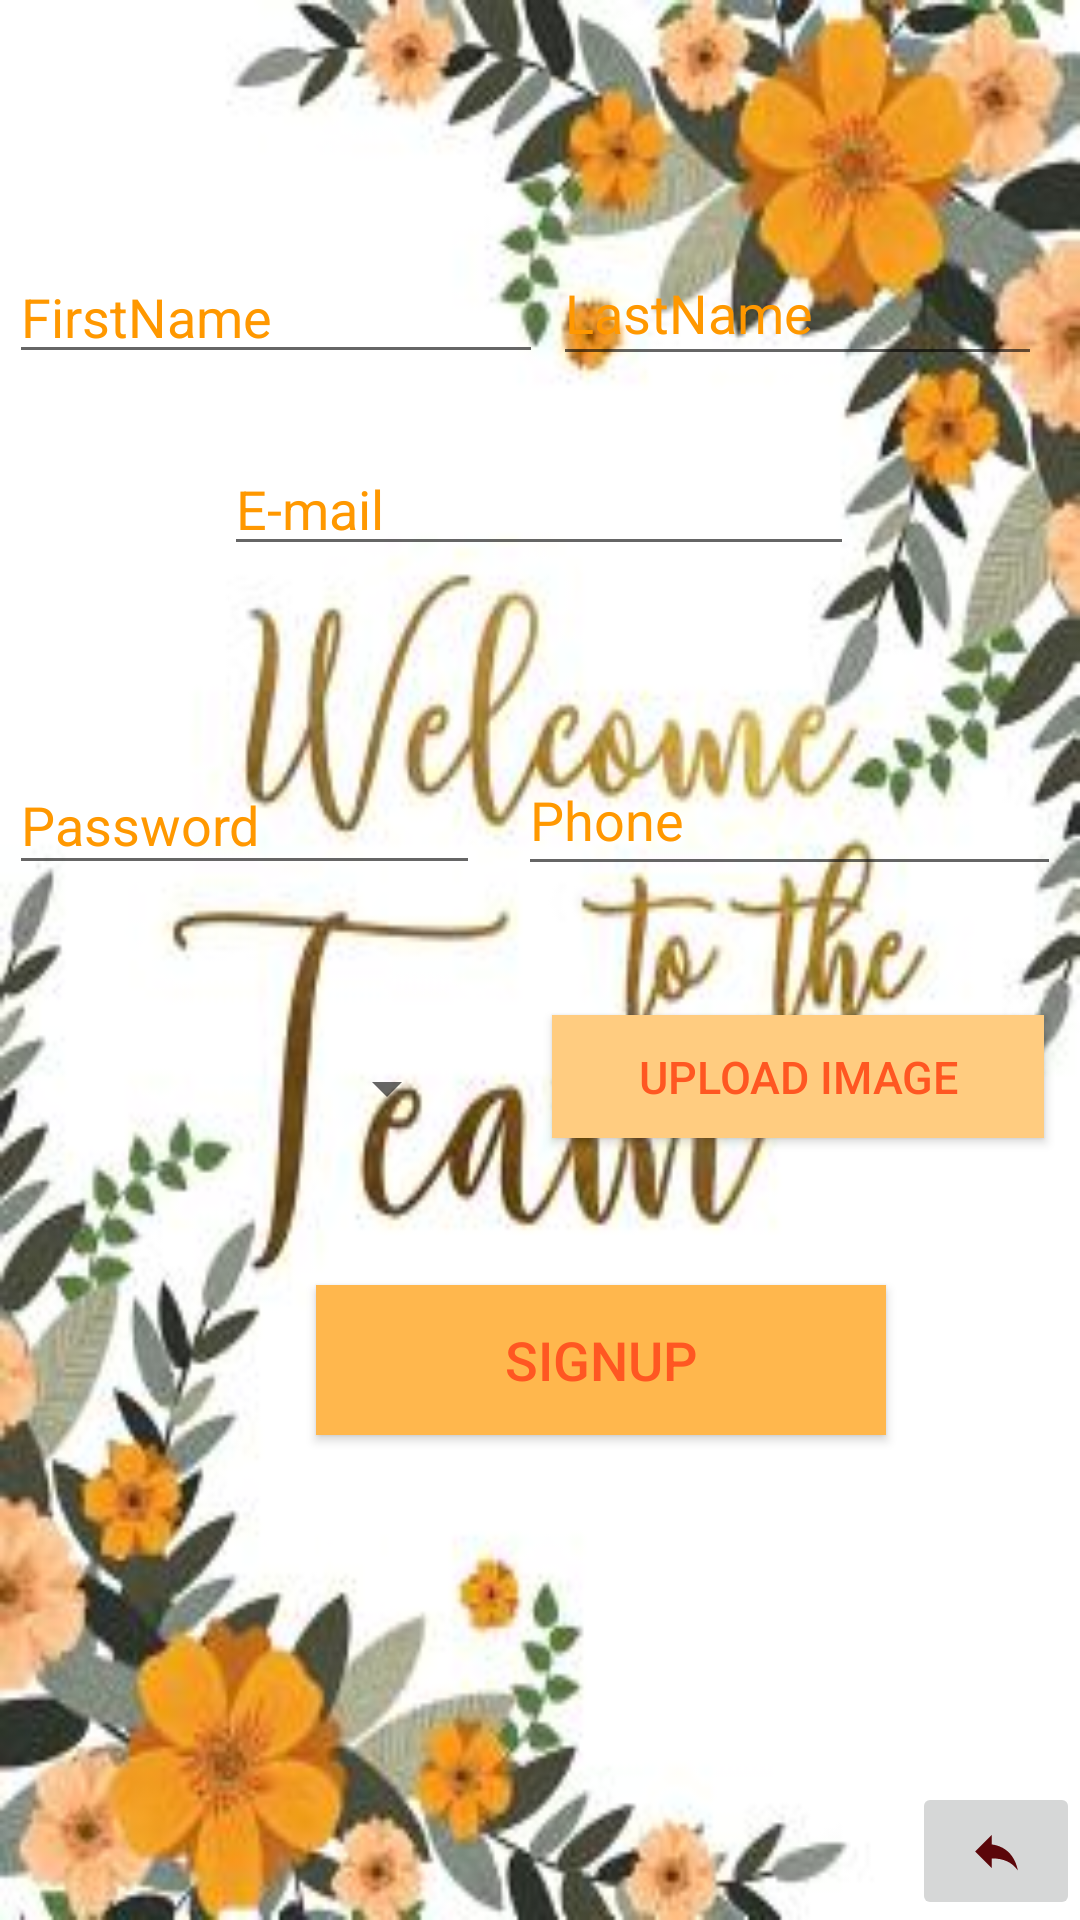

Icons on this 1080w x 1920h Android screen, each with its box as detection(x1, y1, x2, y2):
reply: detection(924, 1800, 1068, 1902)
